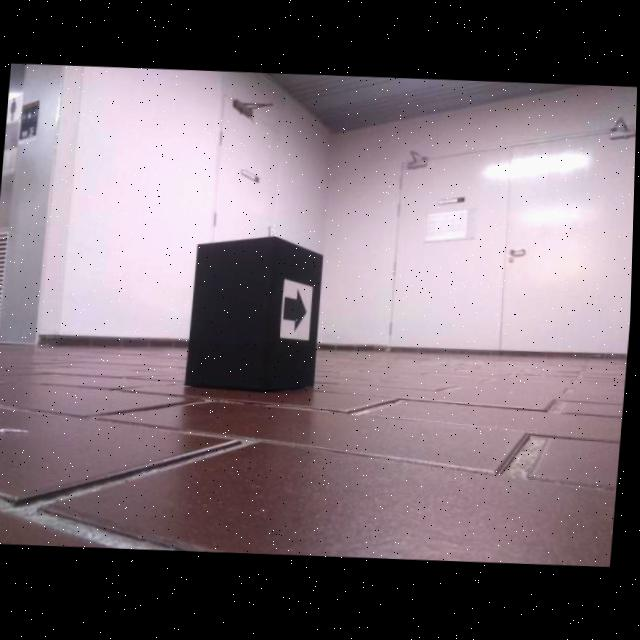RIGHT: (285, 289, 310, 335)
